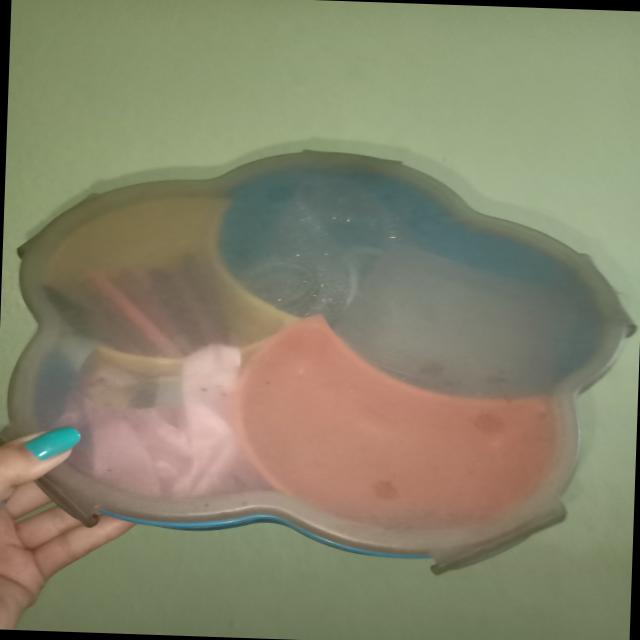plastic_box: (14, 81, 636, 624)
